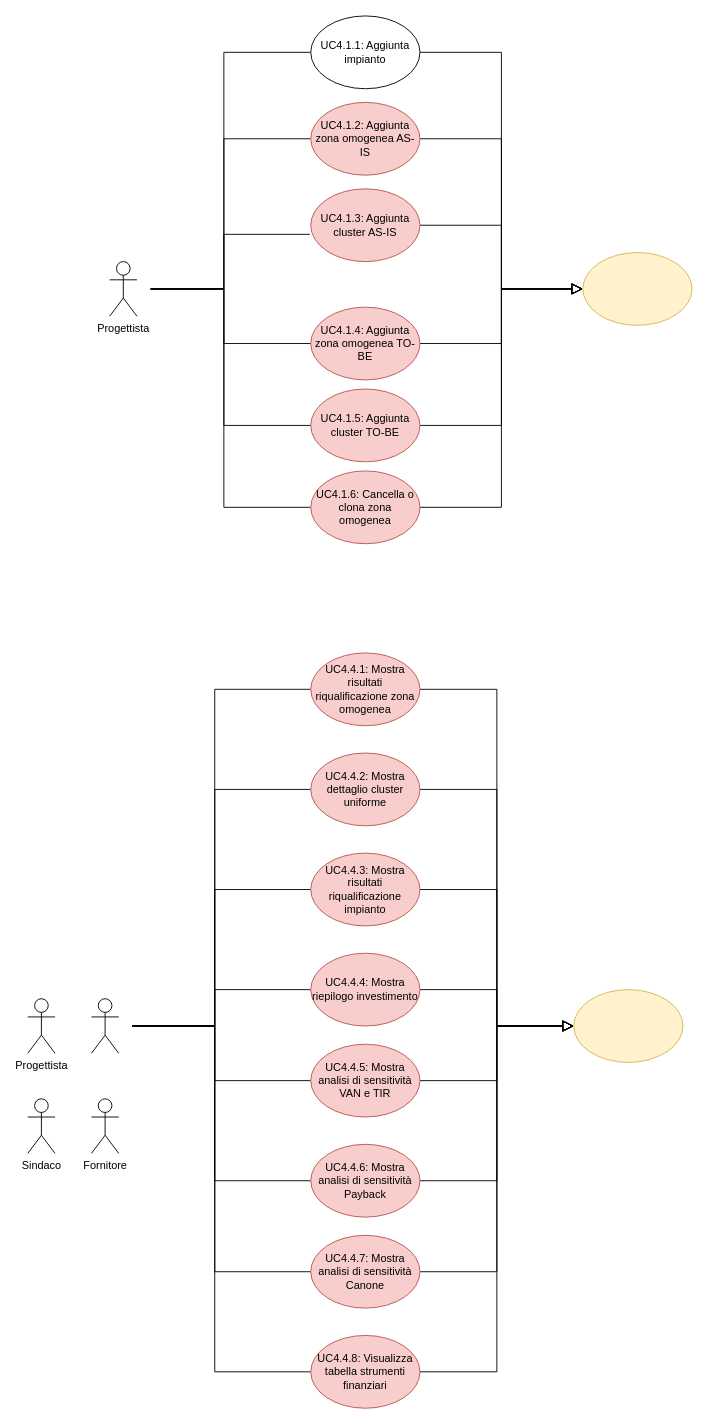
Some shapes in this 708 by 1424 pixel diagram are drawn without their labels. The box of each missing label's shape, as (x1, y1, x2, y2) in pixels:
Regione: (91, 998, 119, 1053)
UC4.1: Gestione impianto: (582, 252, 692, 325)
UC4.4: Visualizzazione risultati: (573, 989, 683, 1062)
